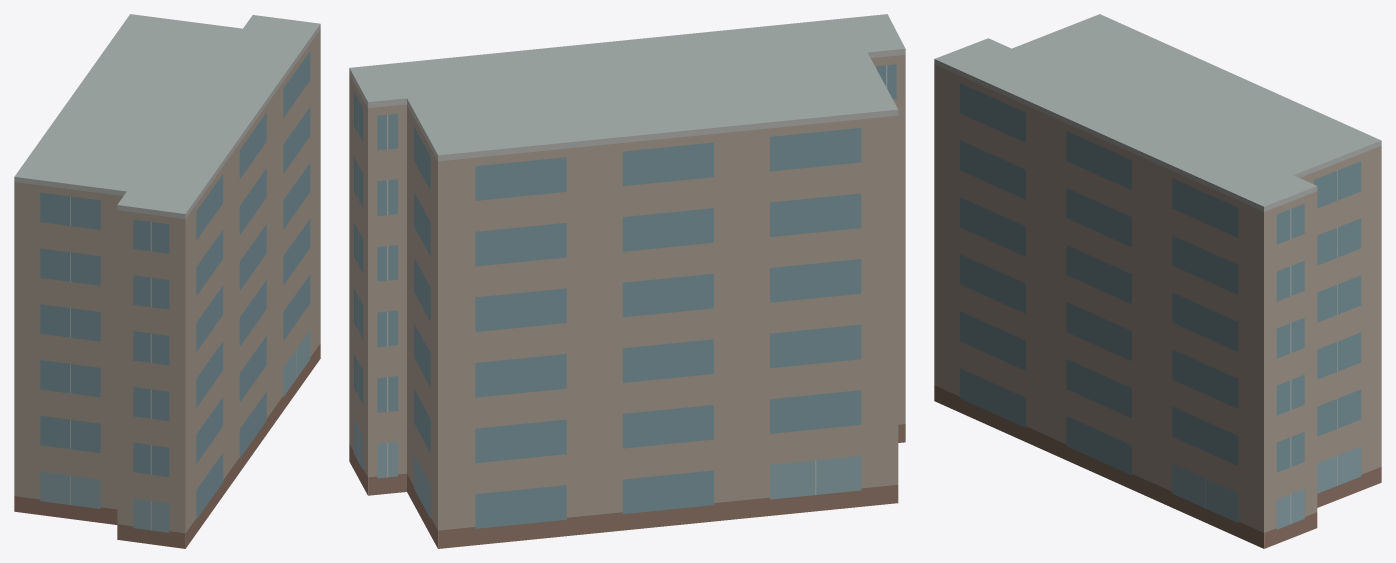
File: survey-upis-32921275.glb
The picture shows the model from 3 angles, left to right: view 1: azimuth 30°, elevation 25°; view 2: azimuth 150°, elevation 25°; view 3: azimuth 270°, elevation 25°; orthographic projection. The views are drawn at different scales.
Visible parts, largest first — view 1: survey-upis-32921275.tmp; view 2: survey-upis-32921275.tmp; view 3: survey-upis-32921275.tmp.
Part boxes in pixels (bbox=[...]): survey-upis-32921275.tmp: bbox=[14, 14, 320, 548]; survey-upis-32921275.tmp: bbox=[349, 14, 905, 548]; survey-upis-32921275.tmp: bbox=[934, 14, 1381, 548].
Size of the model in its own units: 19.35 by 16 by 18.96.
